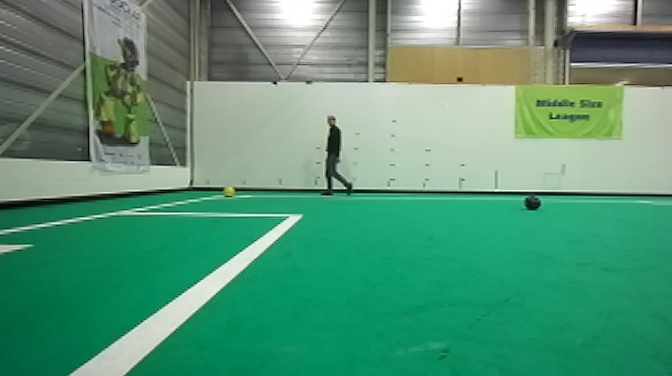ball: (522, 192, 544, 212), (220, 183, 237, 200)
human: (317, 113, 352, 198)
